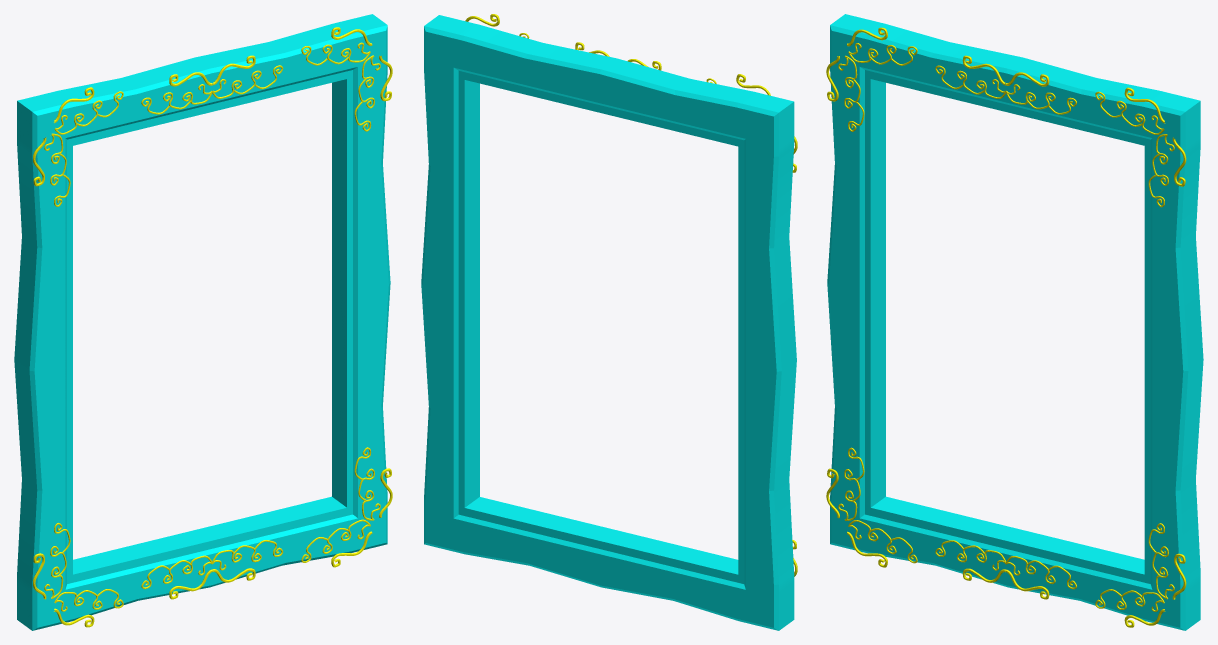
Rendered from MSH_Marco.FBX.
3 renders of one model, left to right at view 1: azimuth 30°, elevation 25°; view 2: azimuth 150°, elevation 25°; view 3: azimuth 330°, elevation 25°, orthographic.
Visible parts, largest first — view 1: MSH_Marco; view 2: MSH_Marco; view 3: MSH_Marco.
Part boxes in pixels (x1,y1,x2,y2): MSH_Marco: (14, 14, 392, 630); MSH_Marco: (421, 14, 797, 630); MSH_Marco: (826, 14, 1203, 630).
Bounding box in the file's own units: 7.44 × 10.63 × 0.7012.
